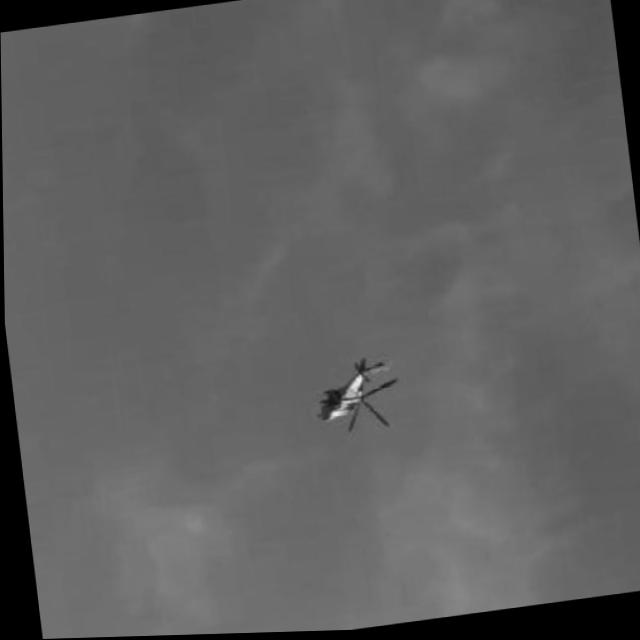helikopter: (310, 356, 401, 440)
